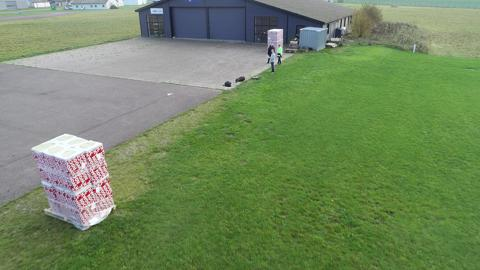RockwoolPallet: (31, 132, 116, 229)
